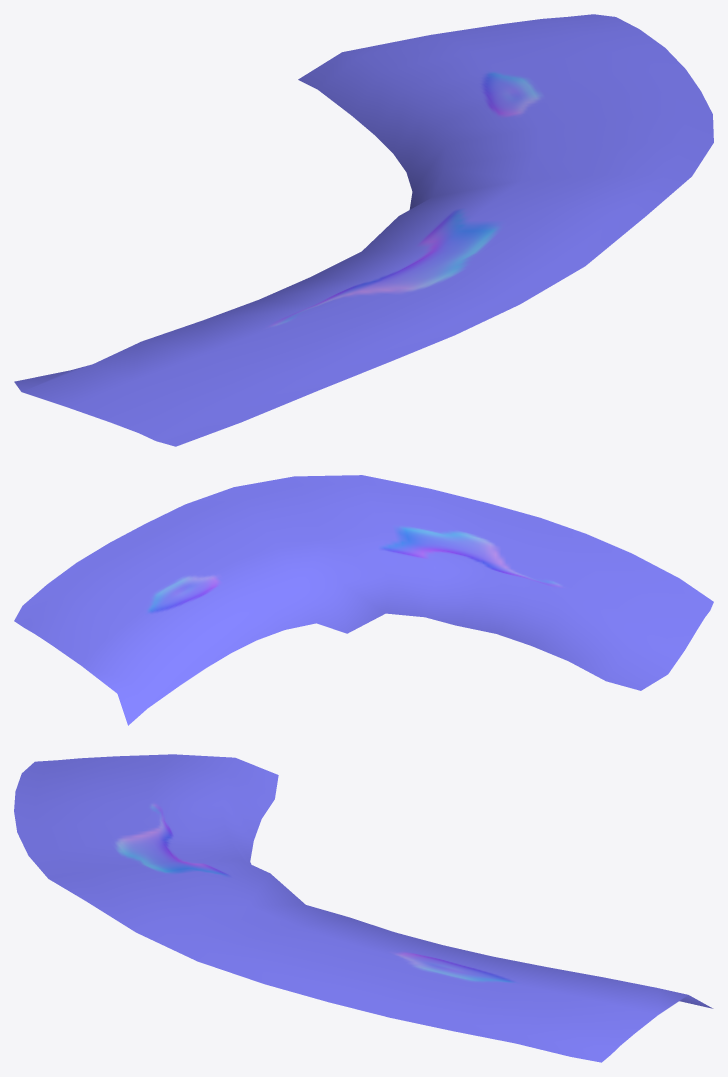
The model's file is p_mesh_trashbot_windpushroar_groundgoo_quater_pose2.fbx.
The picture shows the model from 3 angles, top to bottom: view 1: azimuth 30°, elevation 25°; view 2: azimuth 150°, elevation 25°; view 3: azimuth 270°, elevation 25°; orthographic projection. The views are drawn at different scales.
Parts seen in each view (by area): view 1: p_gooroar__pose2; view 2: p_gooroar__pose2; view 3: p_gooroar__pose2.
Part boxes in pixels (x1,y1,x2,y2): p_gooroar__pose2: [14, 14, 713, 446]; p_gooroar__pose2: [14, 475, 713, 725]; p_gooroar__pose2: [14, 754, 713, 1062].
Size of the model in its own units: 103 by 15.14 by 88.56.
